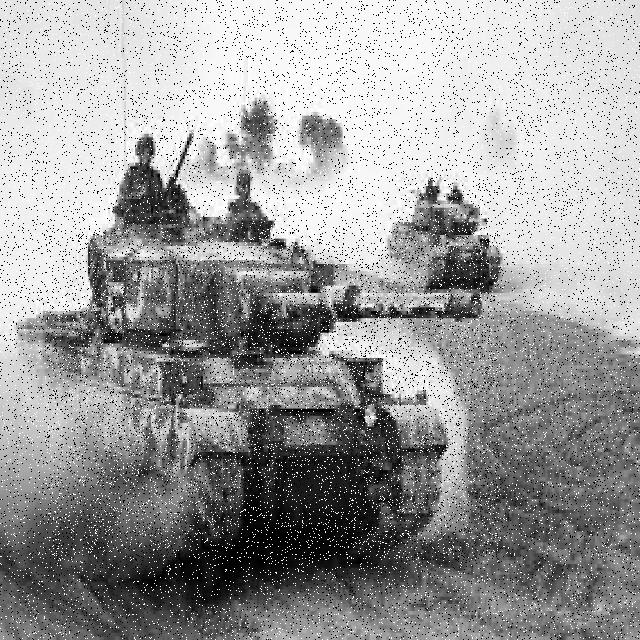MIL_MBT: (45, 228, 500, 560), (392, 181, 500, 269)
